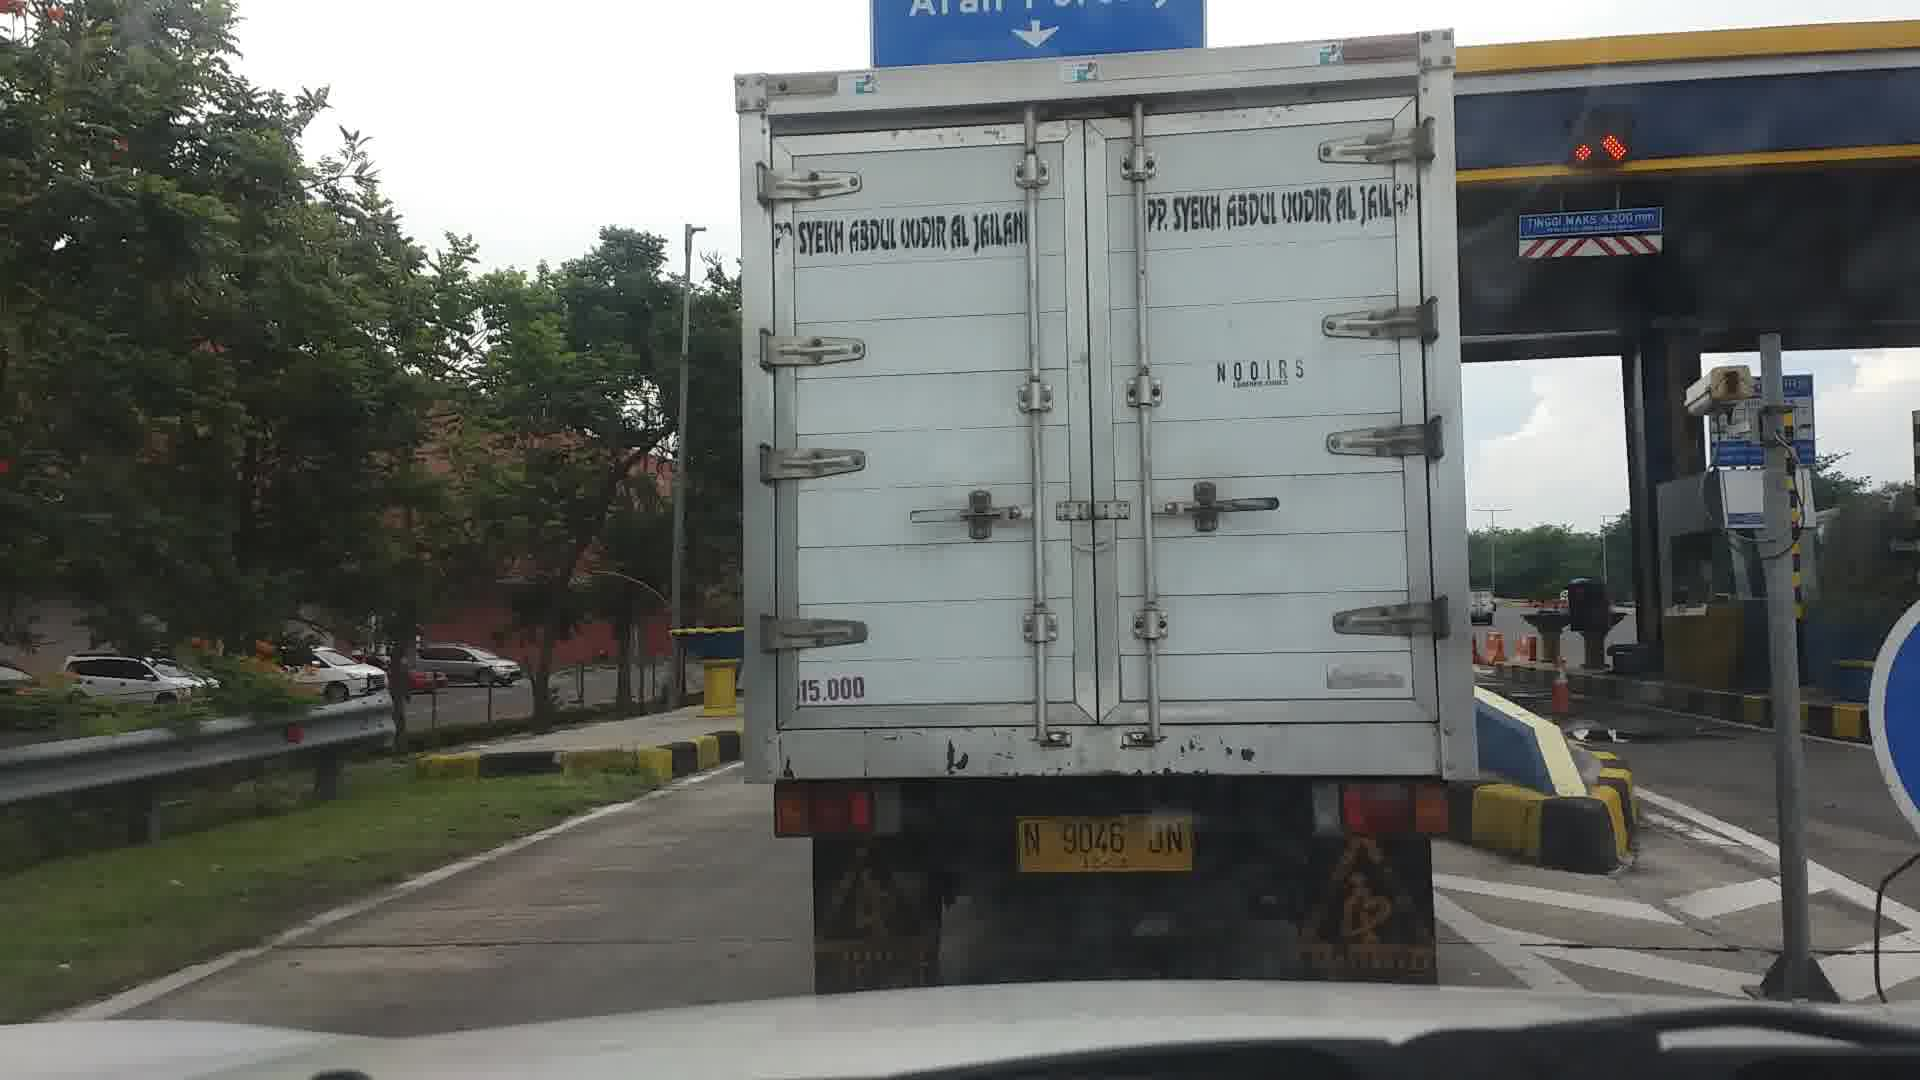plate_positive: (1015, 816, 1193, 872)
